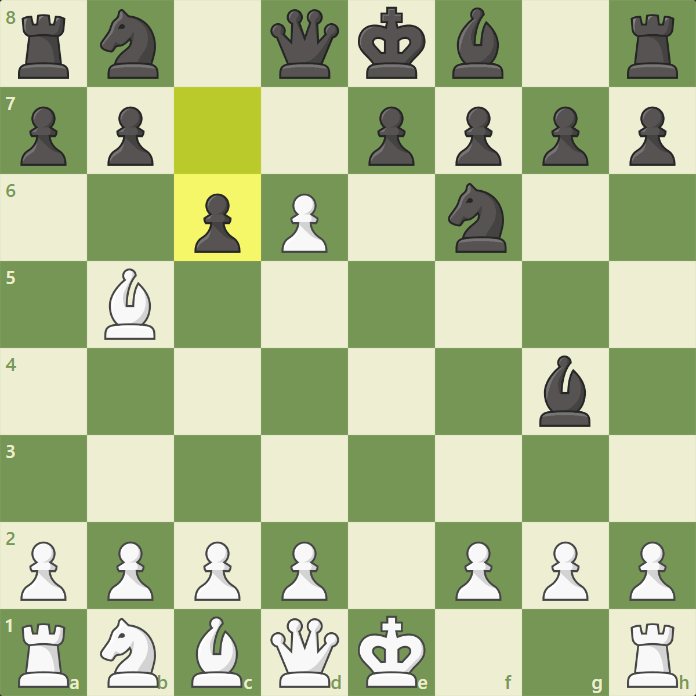B: (99, 266, 160, 343), (190, 614, 244, 691)
K: (357, 614, 427, 690)
N: (97, 616, 161, 690)
P: (276, 190, 332, 256), (19, 538, 70, 605), (103, 536, 154, 603), (190, 537, 241, 604), (278, 536, 329, 603), (452, 536, 503, 603), (538, 537, 589, 604), (626, 537, 677, 604)
Q: (268, 617, 342, 691)
R: (14, 619, 72, 691), (625, 622, 680, 691)
b: (536, 354, 595, 431), (449, 5, 507, 82)
k: (356, 4, 428, 82)
n: (97, 6, 161, 82), (446, 181, 510, 255)
p: (19, 103, 70, 168), (103, 104, 154, 169), (191, 191, 242, 256), (364, 104, 415, 169), (539, 104, 590, 169), (449, 102, 500, 167), (626, 104, 677, 169)
q: (268, 7, 342, 81)
r: (623, 10, 682, 81), (16, 10, 73, 82)
